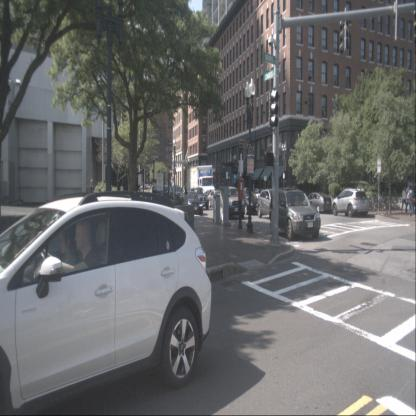human-pedestrian-adult: (406, 185, 416, 218), (405, 182, 413, 214), (183, 189, 188, 219)
vehicle-bicycle: (373, 196, 386, 216)
vehicle-car: (0, 196, 212, 410), (268, 187, 321, 242), (332, 189, 368, 216), (219, 186, 245, 221), (256, 189, 286, 219), (235, 190, 260, 217), (304, 193, 332, 214), (183, 192, 203, 216), (189, 188, 209, 210), (206, 190, 223, 209), (170, 186, 184, 204), (152, 186, 159, 195)
vehicle-truck: (186, 166, 215, 204)
